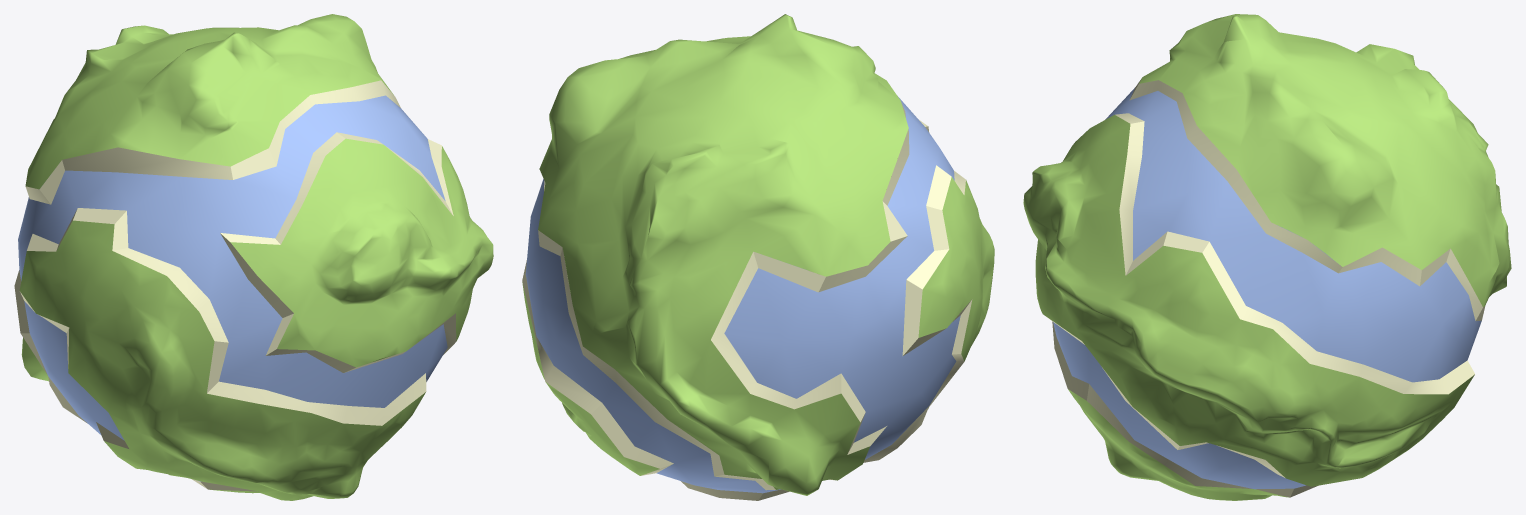
The model's file is Planet.fbx.
3 renders of one model, left to right at view 1: azimuth 30°, elevation 25°; view 2: azimuth 150°, elevation 25°; view 3: azimuth 270°, elevation 25°, orthographic.
Parts seen in each view (by area): view 1: Planet; view 2: Planet; view 3: Planet.
Boxes of the visible parts, x1,y1,x2,y2 form: Planet: (14,14,493,500); Planet: (522,14,994,500); Planet: (1023,14,1511,500).
Bounding box in the file's own units: 106 × 115 × 110.
